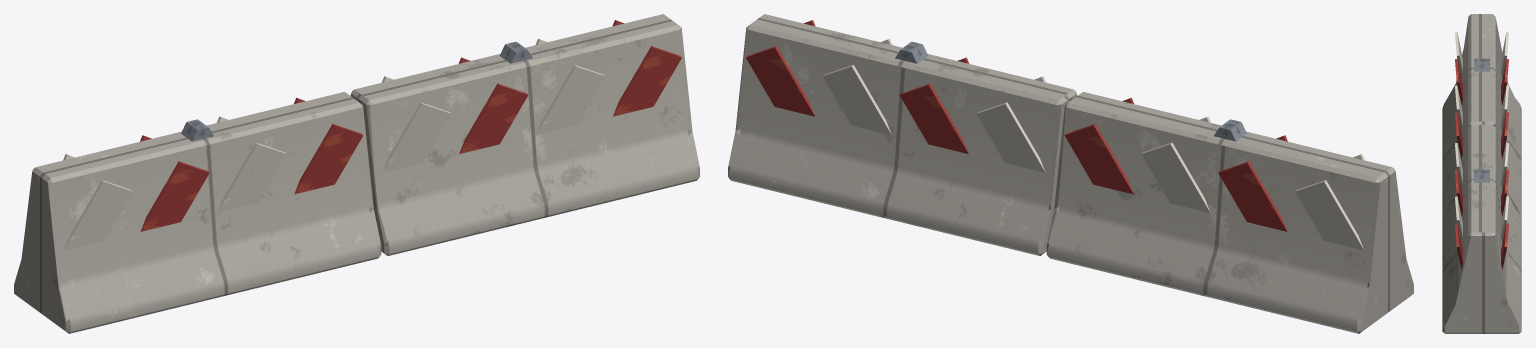
File: concrete_barrier.glb
The picture shows the model from 3 angles, left to right: view 1: azimuth 30°, elevation 25°; view 2: azimuth 150°, elevation 25°; view 3: azimuth 270°, elevation 25°; orthographic projection. The views are drawn at different scales.
Parts seen in each view (by area): view 1: Barrier; view 2: Barrier; view 3: Barrier.
Part boxes in pixels (left/top/right/bottom): Barrier: left=14, top=14, right=699, bottom=333; Barrier: left=728, top=14, right=1413, bottom=333; Barrier: left=1442, top=14, right=1521, bottom=333.
Bounding box in the file's own units: 3.96 × 0.9106 × 0.6.
3 materials, 3 textured.
